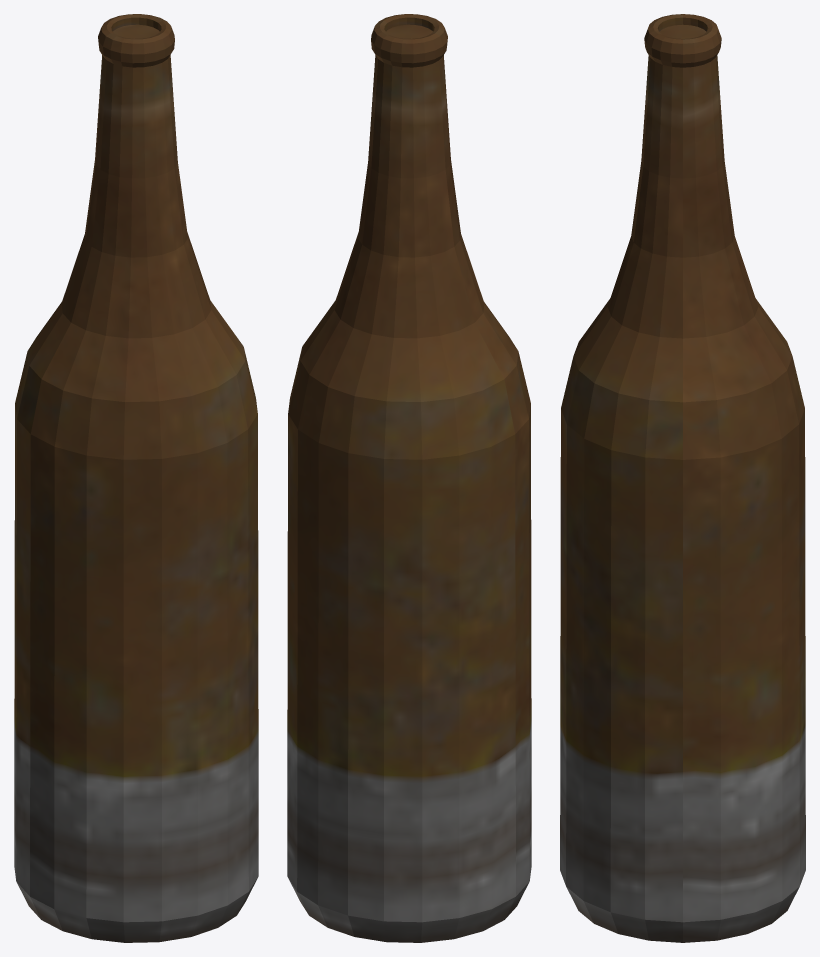
The model's file is Bottle01.fbx.
3 renders of one model, left to right at view 1: azimuth 30°, elevation 25°; view 2: azimuth 150°, elevation 25°; view 3: azimuth 270°, elevation 25°, orthographic.
Visible parts, largest first — view 1: Bottle01; view 2: Bottle01; view 3: Bottle01.
Part boxes in pixels (x1,y1,x2,y2): Bottle01: (14,14,258,942); Bottle01: (287,14,531,942); Bottle01: (560,14,805,942).
Bounding box in the file's own units: 4.59 × 17.91 × 4.59.
